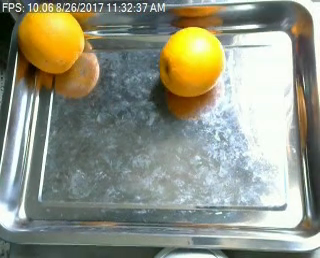Orange: (17, 3, 86, 73), (157, 25, 224, 97)
